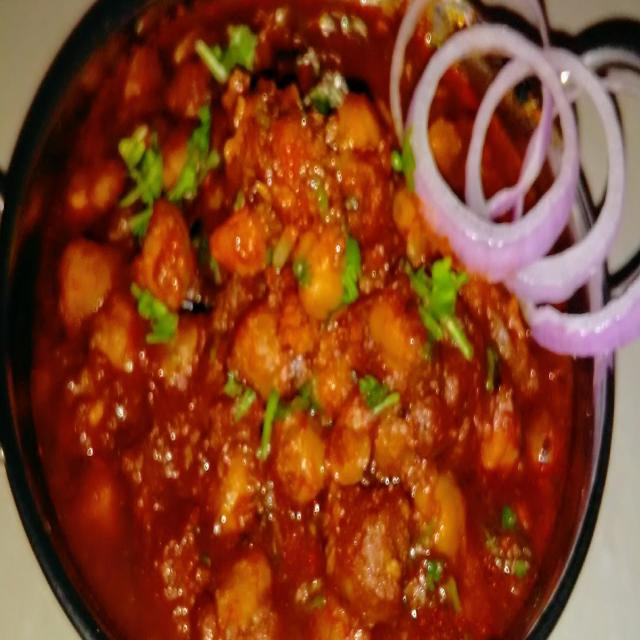Chole: (30, 1, 577, 640)
